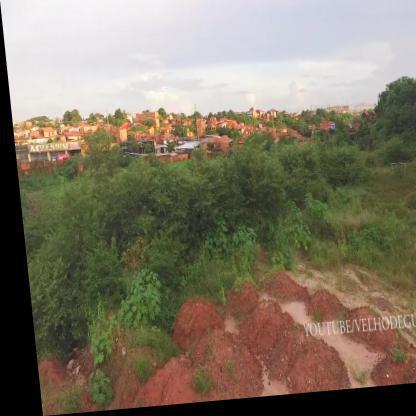agua: (276, 306, 305, 326)
